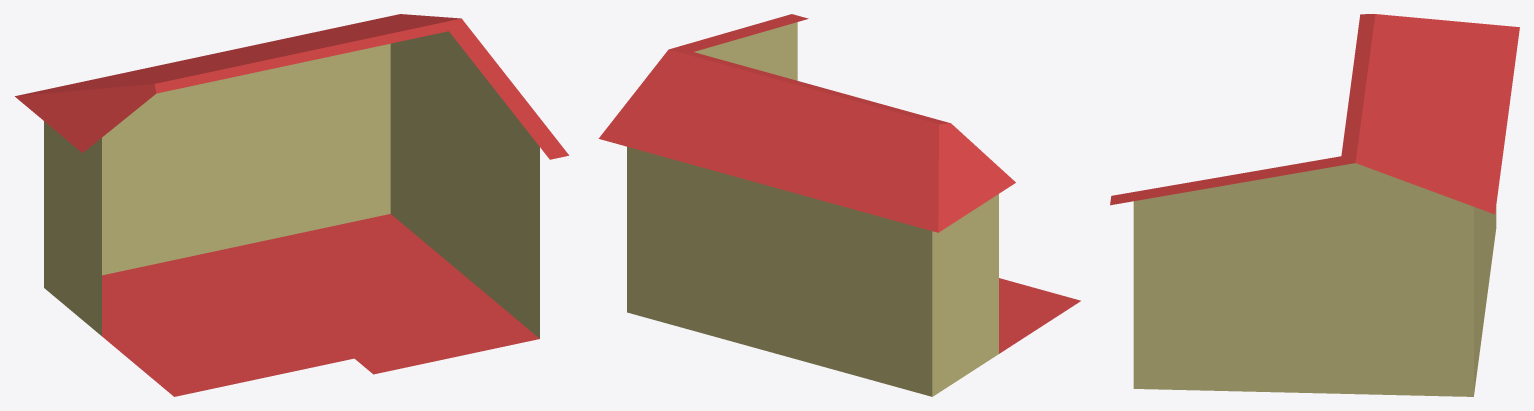
3 renders of one model, left to right at view 1: azimuth 30°, elevation 25°; view 2: azimuth 150°, elevation 25°; view 3: azimuth 270°, elevation 25°, orthographic. The views are drawn at different scales.
Size of the model in its own units: 15.06 by 13.66 by 8.85.
